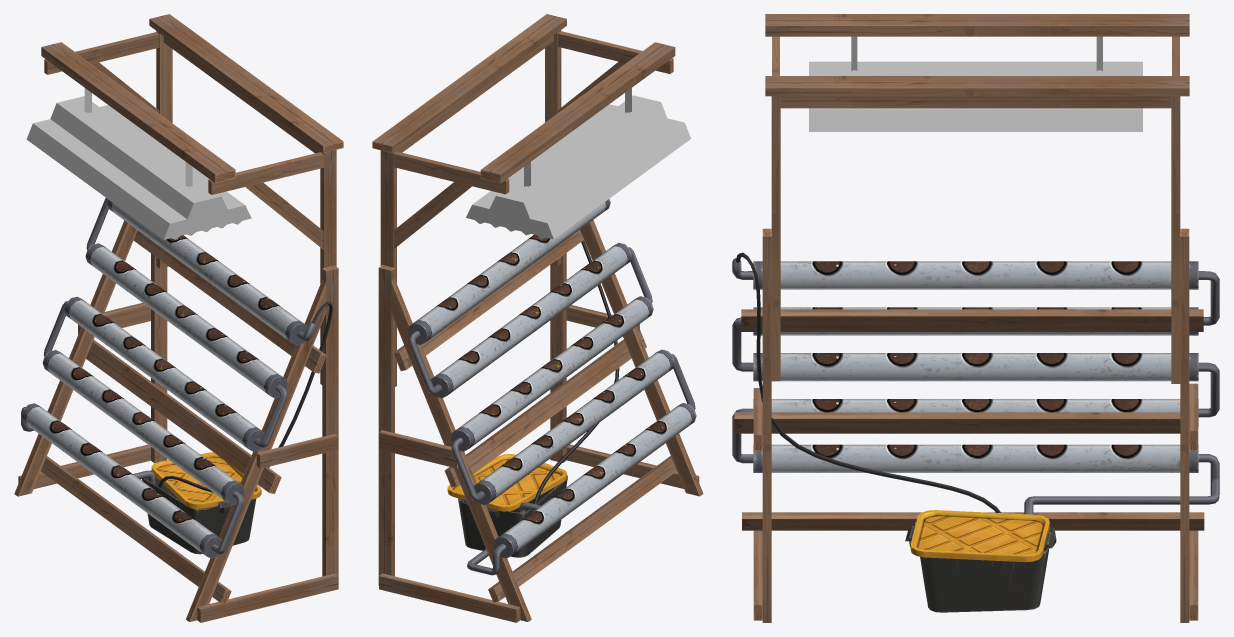
The model's file is hydroponics_V02.fbx.
The picture shows the model from 3 angles, left to right: view 1: azimuth 30°, elevation 25°; view 2: azimuth 150°, elevation 25°; view 3: azimuth 270°, elevation 25°; orthographic projection. The views are drawn at different scales.
Visible parts, largest first — view 1: hydroponics_V02, hydroponics_V02_lamp; view 2: hydroponics_V02, hydroponics_V02_lamp; view 3: hydroponics_V02, hydroponics_V02_lamp.
Boxes of the visible parts, bbox=[...] form: hydroponics_V02: bbox=[14, 198, 338, 622]; hydroponics_V02_lamp: bbox=[26, 14, 343, 384]; hydroponics_V02: bbox=[378, 199, 703, 622]; hydroponics_V02_lamp: bbox=[372, 14, 690, 386]; hydroponics_V02: bbox=[732, 228, 1219, 622]; hydroponics_V02_lamp: bbox=[765, 14, 1189, 383].
Size of the model in its own units: 1.02 by 2.67 by 2.19.
